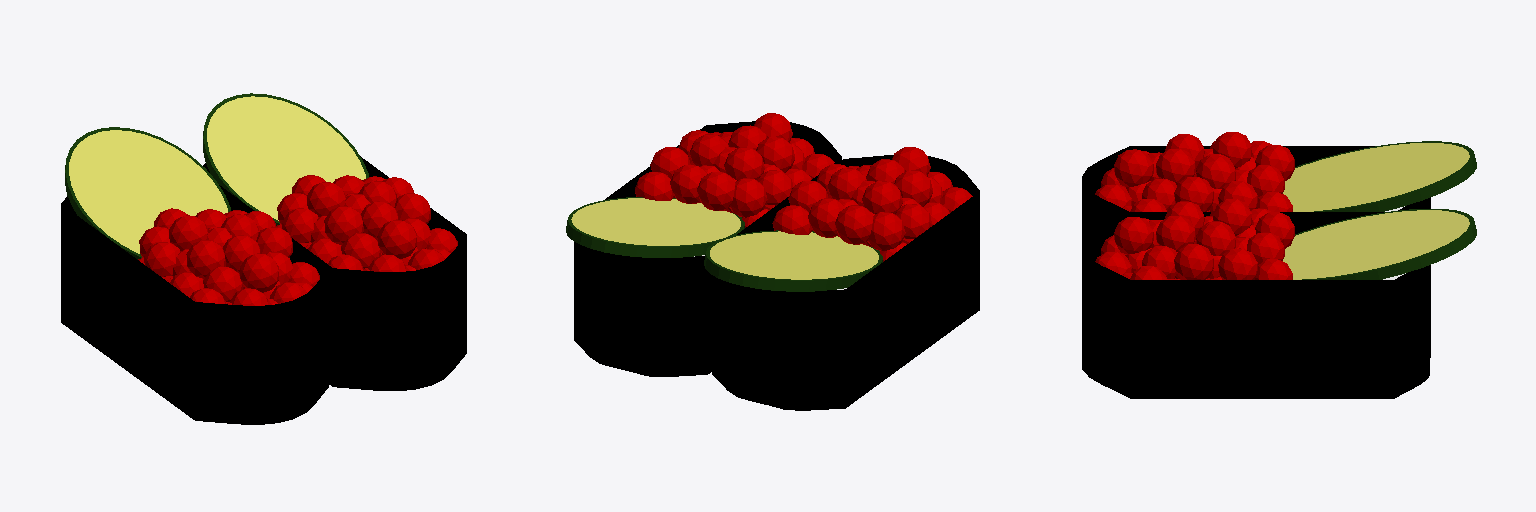
File: ikura_only.obj
3 renders of one model, left to right at view 1: azimuth 30°, elevation 25°; view 2: azimuth 150°, elevation 25°; view 3: azimuth 270°, elevation 25°, orthographic.
Parts seen in each view (by area): view 1: nori_Plane.002, nori.001_Plane.003, kyuri.002_Cylinder.003, kyuri.003_Cylinder.004, kyuri_Cylinder.001, Icosphere.033_Icosphere.039, Icosphere.080_Icosphere.086, kyuri.004_Cylinder.005, Icosphere.093_Icosphere.099, Icosphere.046_Icosphere.052, Icosphere.047_Icosphere.053, Icosphere.094_Icosphere.100 (+14 smaller); view 2: nori_Plane.002, nori.001_Plane.003, kyuri.003_Cylinder.004, kyuri.002_Cylinder.003, kyuri_Cylinder.001, kyuri.004_Cylinder.005, Icosphere.043_Icosphere.049, Icosphere.090_Icosphere.096, Icosphere.092_Icosphere.098, Icosphere.045_Icosphere.051, Icosphere.047_Icosphere.053, Icosphere.094_Icosphere.100 (+16 smaller); view 3: nori.001_Plane.003, kyuri.003_Cylinder.004, kyuri.002_Cylinder.003, nori_Plane.002, kyuri.004_Cylinder.005, kyuri_Cylinder.001, Icosphere.033_Icosphere.039, Icosphere.080_Icosphere.086, Icosphere.086_Icosphere.092, Icosphere.037_Icosphere.043, Icosphere.084_Icosphere.090, Icosphere.088_Icosphere.094 (+18 smaller).
Boxes of the visible parts, x1=… form: nori_Plane.002: x1=61, y1=191, x2=328, y2=424; nori.001_Plane.003: x1=203, y1=156, x2=466, y2=390; kyuri.002_Cylinder.003: x1=69, y1=130, x2=227, y2=253; kyuri.003_Cylinder.004: x1=207, y1=96, x2=365, y2=220; kyuri_Cylinder.001: x1=65, y1=127, x2=230, y2=259; Icosphere.033_Icosphere.039: x1=240, y1=253, x2=278, y2=292; Icosphere.080_Icosphere.086: x1=378, y1=219, x2=416, y2=258; kyuri.004_Cylinder.005: x1=203, y1=93, x2=368, y2=225; Icosphere.093_Icosphere.099: x1=324, y1=206, x2=363, y2=245; Icosphere.046_Icosphere.052: x1=186, y1=240, x2=225, y2=278; Icosphere.047_Icosphere.053: x1=169, y1=215, x2=207, y2=250; Icosphere.094_Icosphere.100: x1=307, y1=181, x2=345, y2=216; nori_Plane.002: x1=712, y1=155, x2=979, y2=410; nori.001_Plane.003: x1=574, y1=121, x2=841, y2=376; kyuri.003_Cylinder.004: x1=571, y1=198, x2=740, y2=245; kyuri.002_Cylinder.003: x1=710, y1=231, x2=878, y2=279; kyuri_Cylinder.001: x1=704, y1=230, x2=882, y2=291; kyuri.004_Cylinder.005: x1=566, y1=197, x2=744, y2=257; Icosphere.043_Icosphere.049: x1=835, y1=205, x2=873, y2=244; Icosphere.090_Icosphere.096: x1=697, y1=172, x2=735, y2=210; Icosphere.092_Icosphere.098: x1=729, y1=178, x2=767, y2=217; Icosphere.045_Icosphere.051: x1=867, y1=212, x2=905, y2=250; Icosphere.047_Icosphere.053: x1=862, y1=181, x2=902, y2=213; Icosphere.094_Icosphere.100: x1=724, y1=147, x2=764, y2=180; nori.001_Plane.003: x1=1082, y1=214, x2=1430, y2=398; kyuri.003_Cylinder.004: x1=1283, y1=210, x2=1469, y2=279; kyuri.002_Cylinder.003: x1=1283, y1=143, x2=1469, y2=211; nori_Plane.002: x1=1082, y1=146, x2=1430, y2=242; kyuri.004_Cylinder.005: x1=1295, y1=209, x2=1476, y2=279; kyuri_Cylinder.001: x1=1295, y1=141, x2=1476, y2=211; Icosphere.033_Icosphere.039: x1=1114, y1=149, x2=1153, y2=186; Icosphere.080_Icosphere.086: x1=1114, y1=217, x2=1153, y2=254; Icosphere.086_Icosphere.092: x1=1174, y1=244, x2=1213, y2=279; Icosphere.037_Icosphere.043: x1=1156, y1=148, x2=1195, y2=184; Icosphere.084_Icosphere.090: x1=1156, y1=216, x2=1195, y2=251; Icosphere.088_Icosphere.094: x1=1218, y1=248, x2=1257, y2=279.
Bounding box in the file's own units: 4.14 × 2.27 × 5.19.